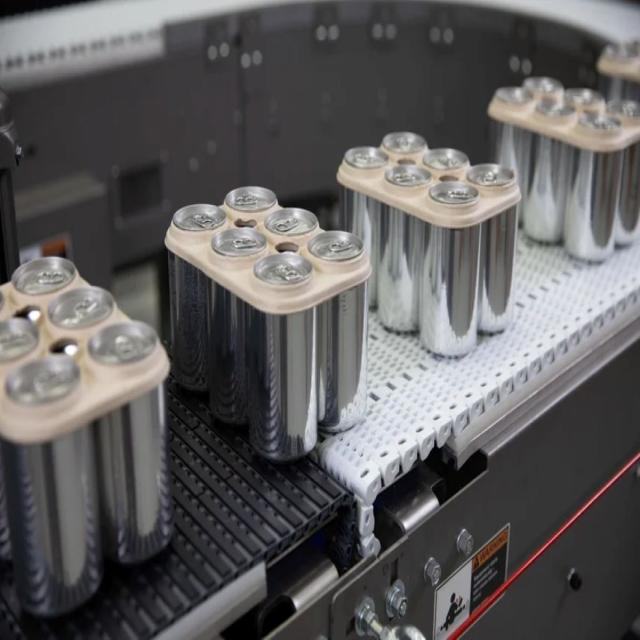bottle: (1, 253, 174, 619), (163, 184, 373, 466), (336, 130, 522, 360)
